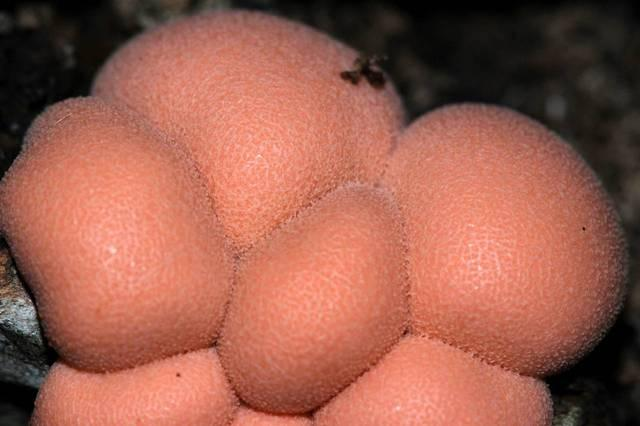poisonous_mushroom: (1, 8, 630, 425), (382, 100, 631, 377), (0, 94, 236, 373), (216, 180, 411, 414)
